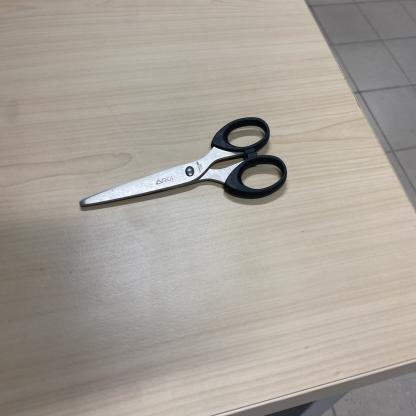scissors: (81, 114, 289, 208)
